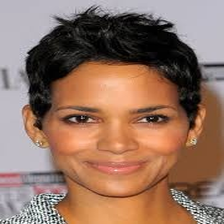no_mask: (47, 67, 184, 194)
